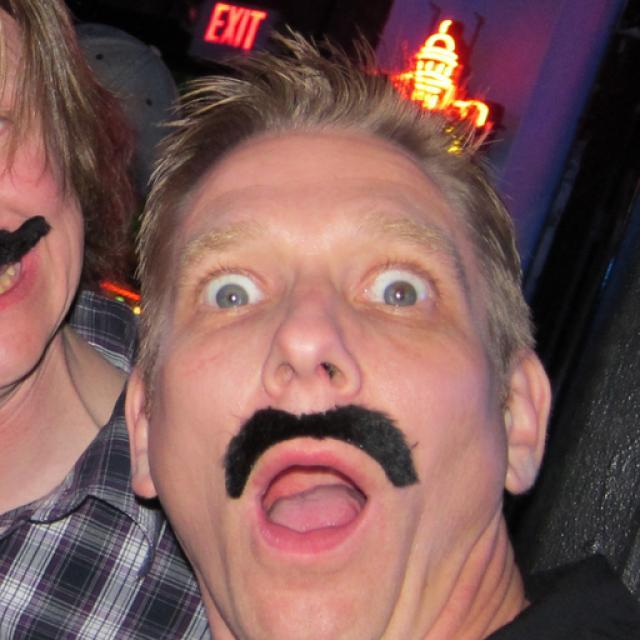fear: (152, 125, 506, 640)
